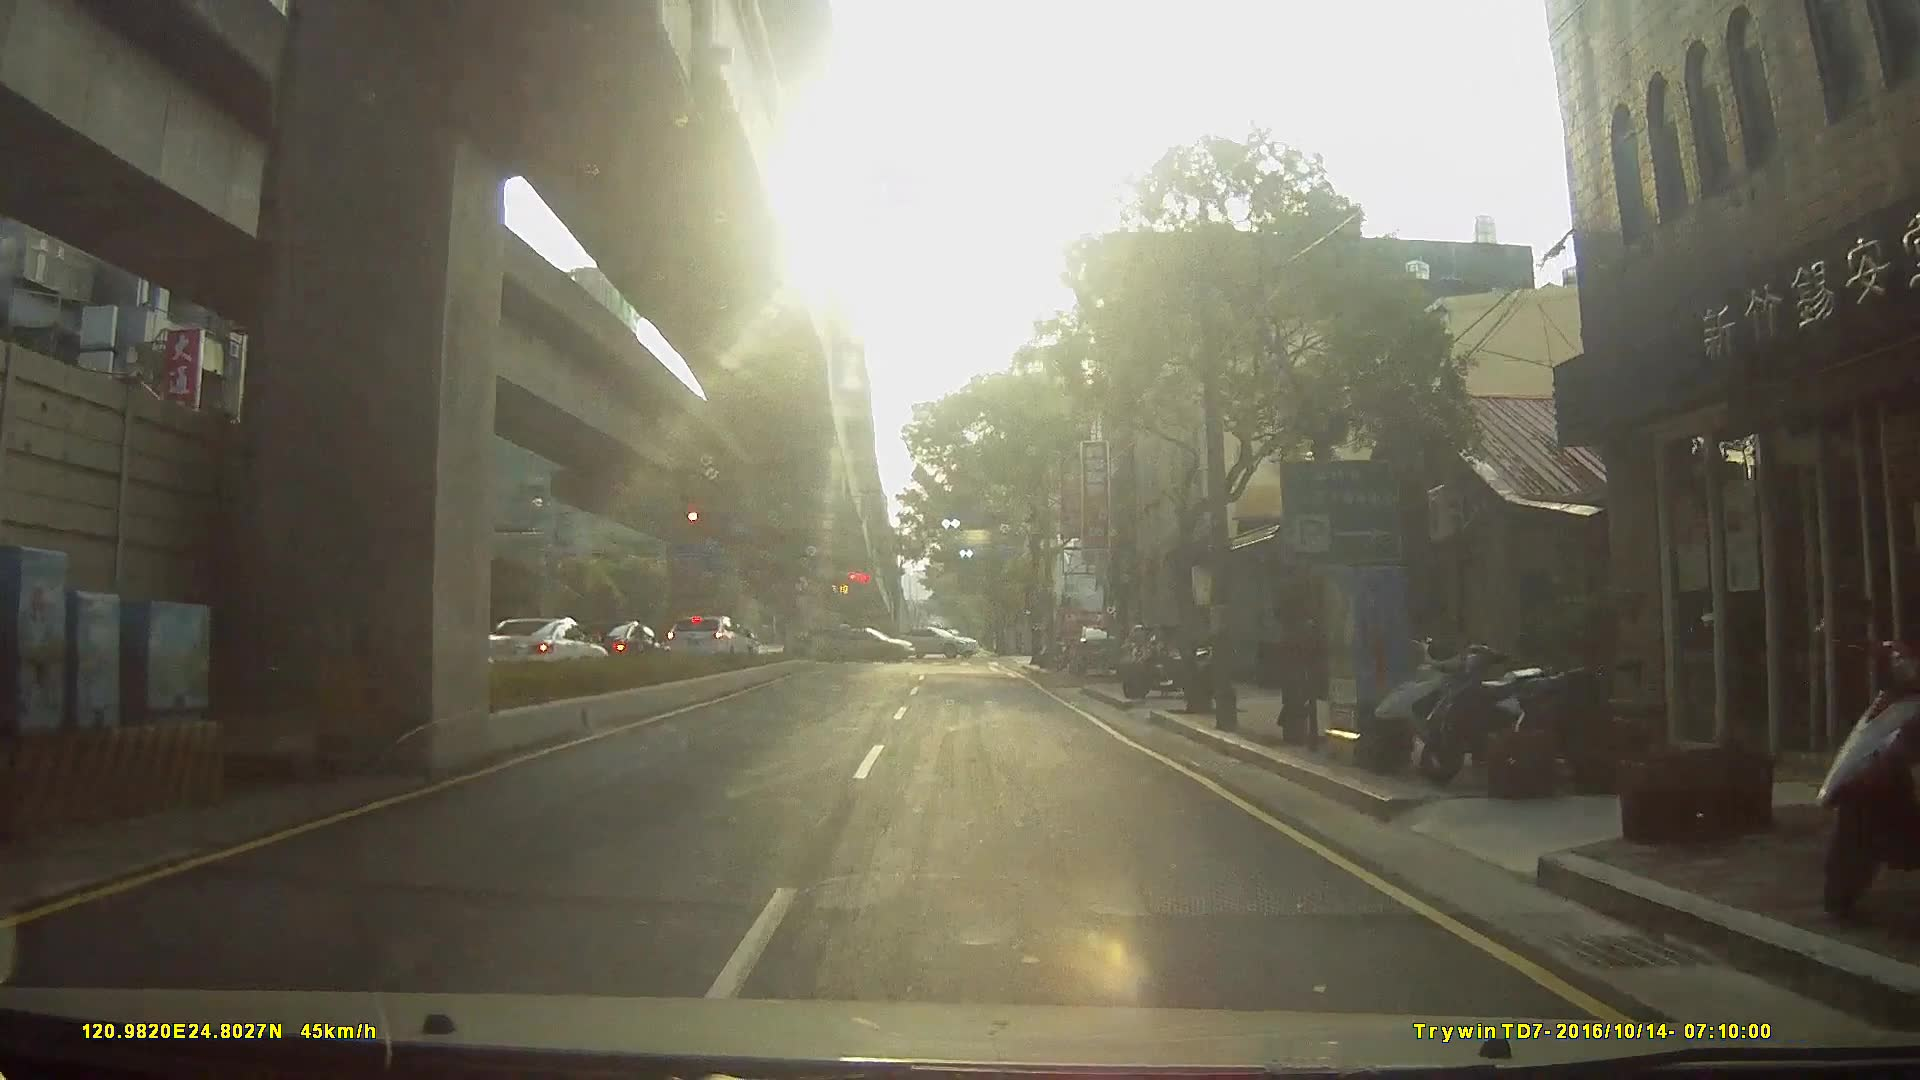vehicle: (465, 617, 603, 684), (567, 621, 669, 676), (659, 615, 756, 665), (818, 626, 920, 665), (1065, 618, 1129, 674), (893, 625, 982, 659)
